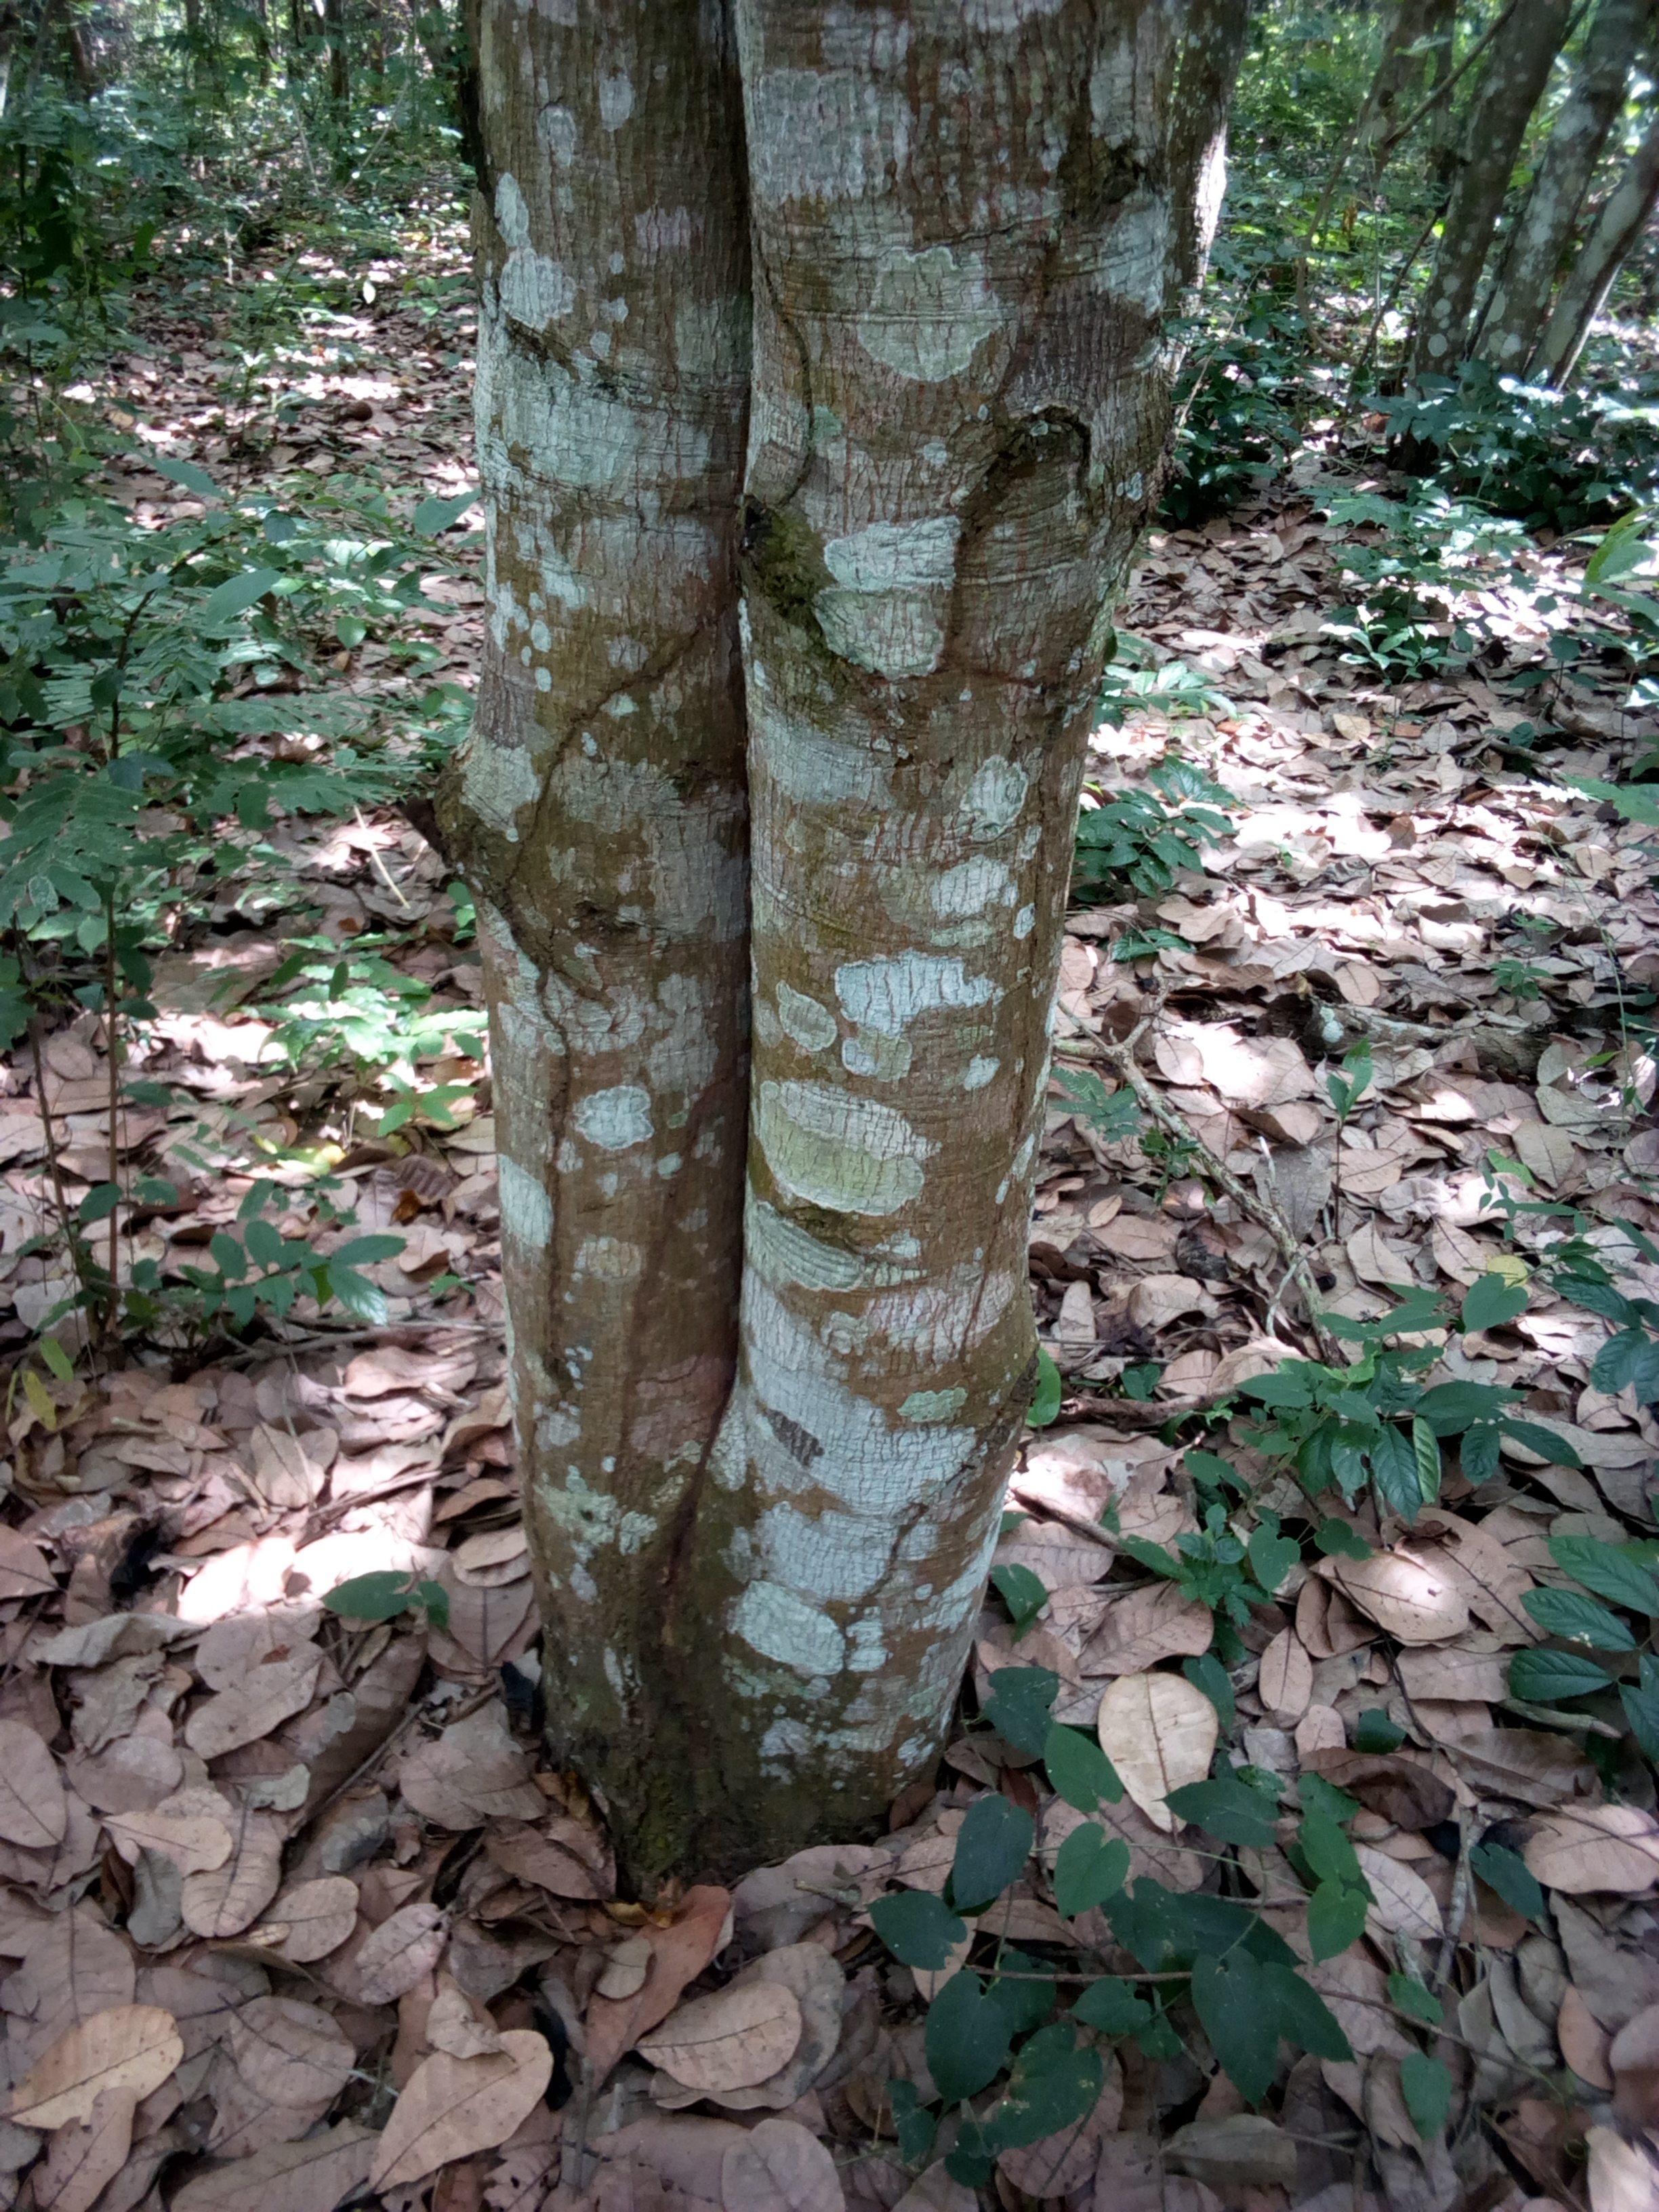Termites: (538, 1055, 748, 1543)
